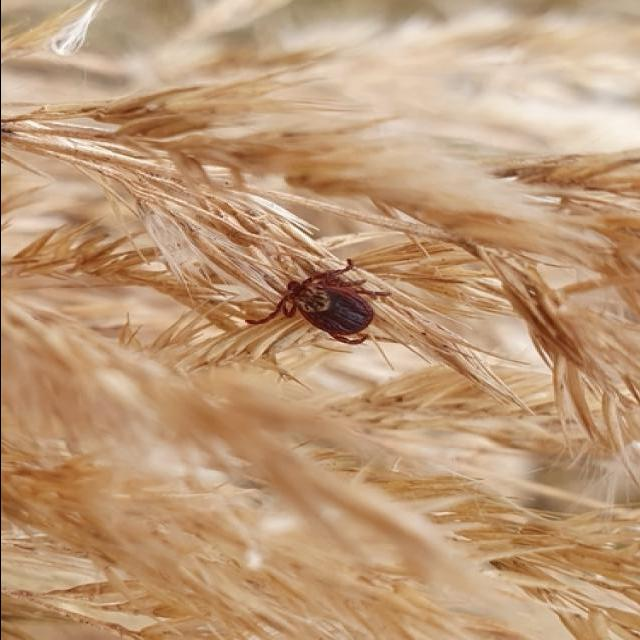Dermacentor Reticulatus-F: (242, 259, 389, 344)
